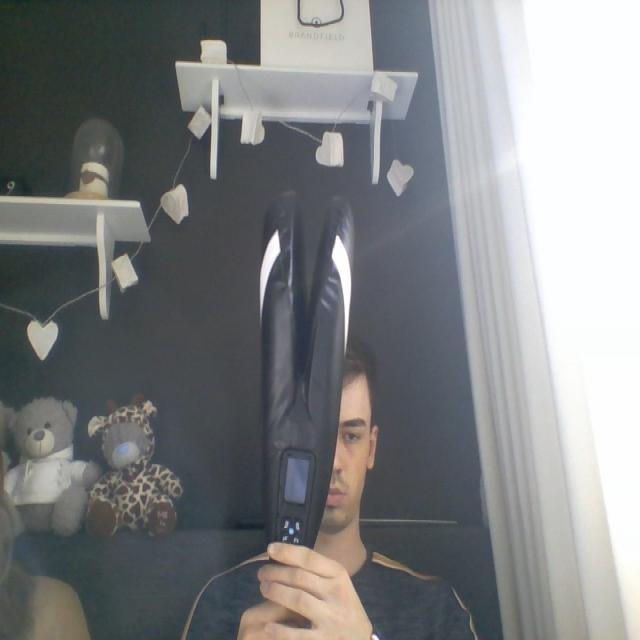paddle: (255, 180, 356, 554)
